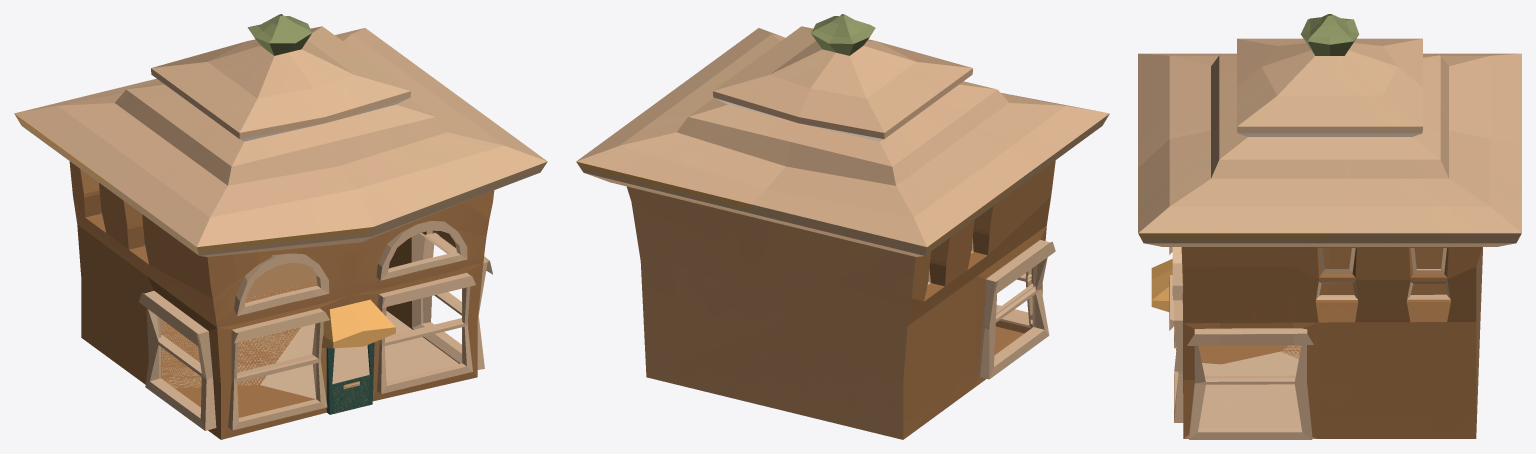
Rendered from ExtraCityBuilding_3.fbx.
The picture shows the model from 3 angles, left to right: view 1: azimuth 30°, elevation 25°; view 2: azimuth 150°, elevation 25°; view 3: azimuth 270°, elevation 25°; orthographic projection. The views are drawn at different scales.
Parts seen in each view (by area): view 1: Cafe; view 2: Cafe; view 3: Cafe.
Boxes of the visible parts, x1,y1,x2,y2 form: Cafe: (14, 14, 547, 439); Cafe: (576, 14, 1109, 439); Cafe: (1138, 14, 1521, 439).
Bounding box in the file's own units: 3773 × 3515 × 3401.
Materials: 1 (1 with a texture image).
